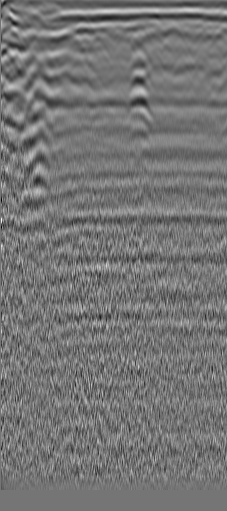가스: (212, 230, 227, 265)
오수: (27, 11, 47, 31)
우수: (161, 19, 184, 47)
